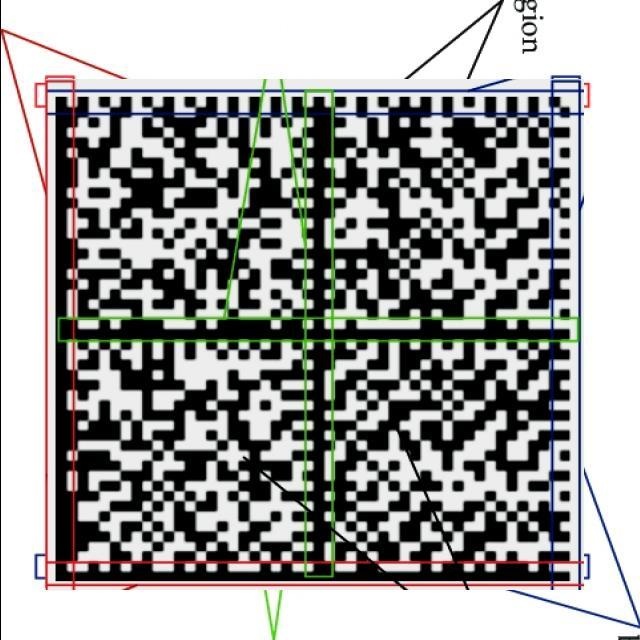Data-Matrix: (45, 79, 583, 590)
